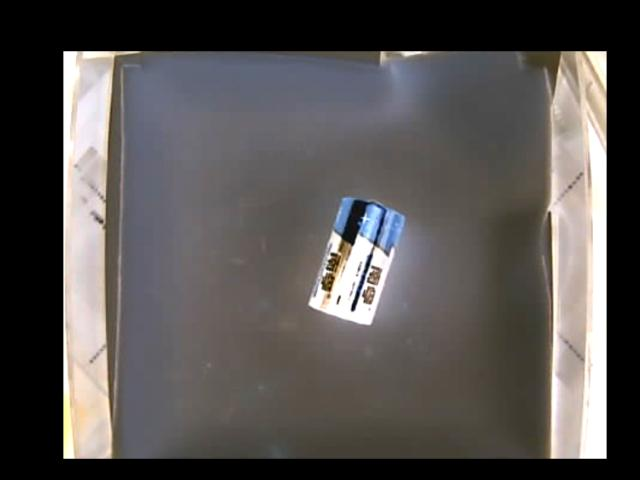Battery: (306, 198, 406, 327)
